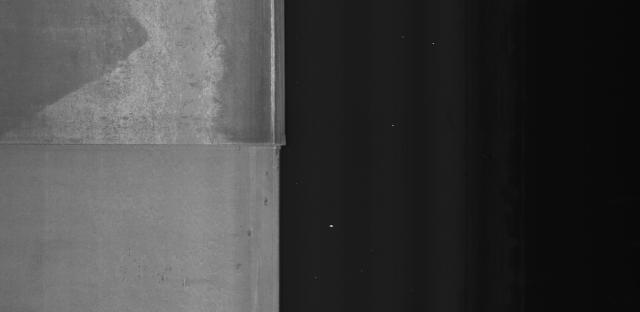welding_line: (0, 134, 294, 155)
